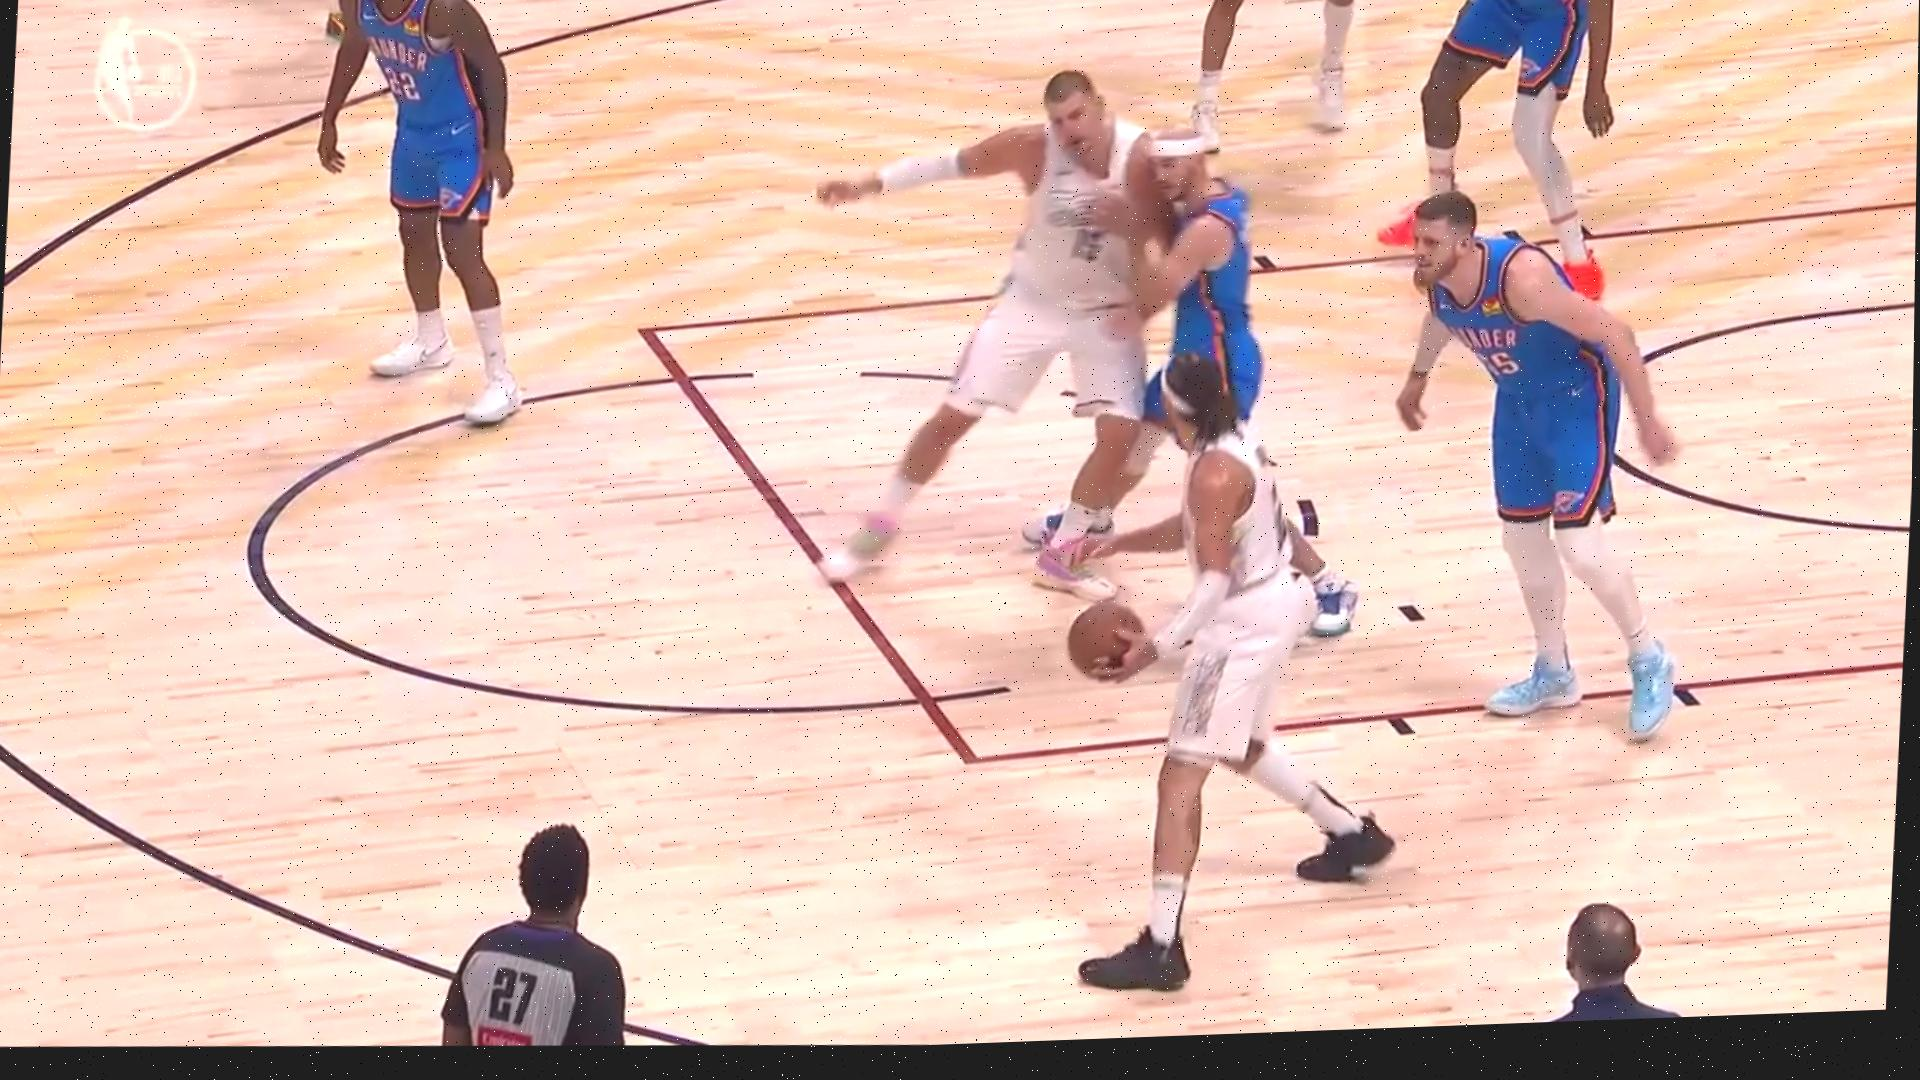foul: (735, 7, 1396, 682)
